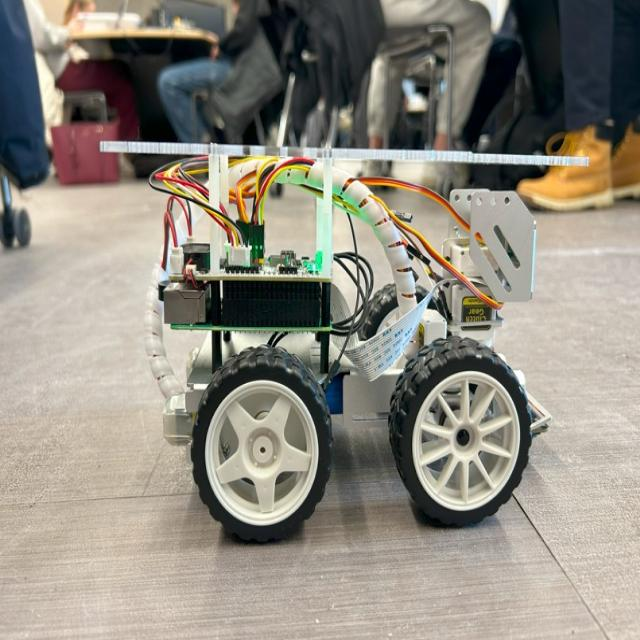vehicle: (86, 113, 605, 553)
